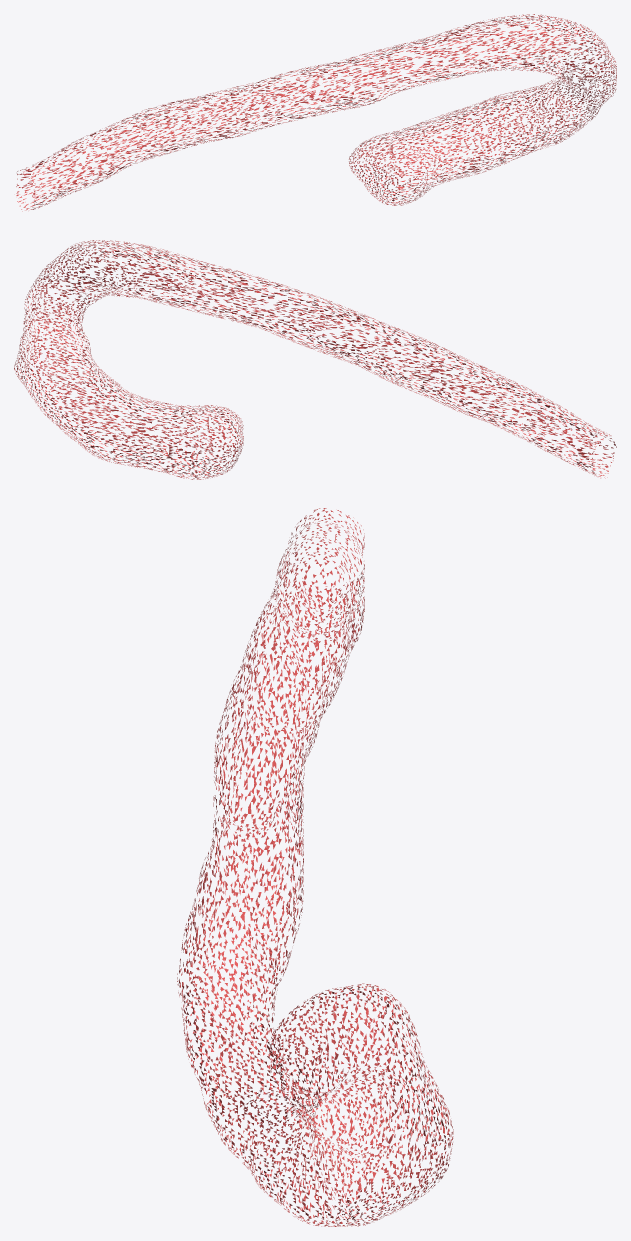
File: aorta.glb
3 renders of one model, top to bottom at view 1: azimuth 30°, elevation 25°; view 2: azimuth 150°, elevation 25°; view 3: azimuth 270°, elevation 25°, orthographic. The views are drawn at different scales.
Size of the model in its own units: 267 by 80.35 by 55.54.
